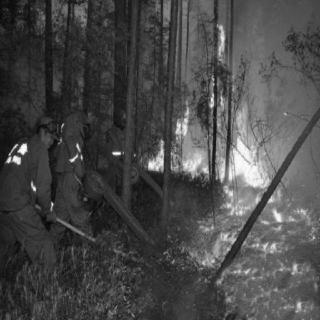Fire: (153, 11, 313, 311)
